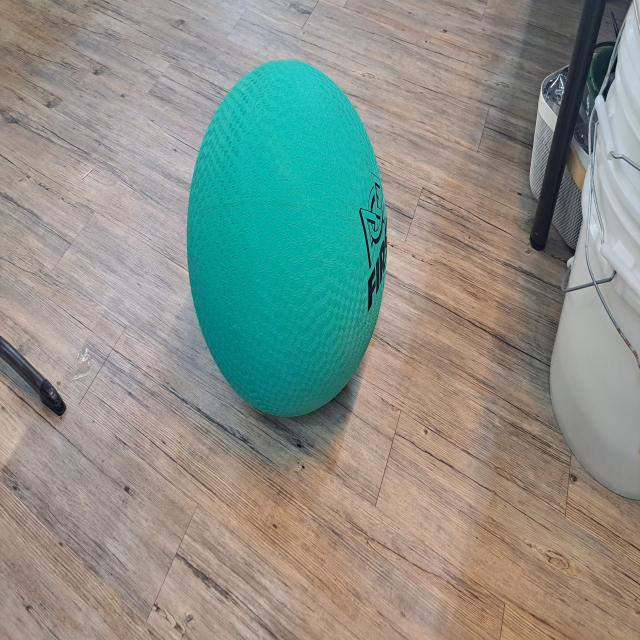ALGAE: (185, 56, 389, 420)
